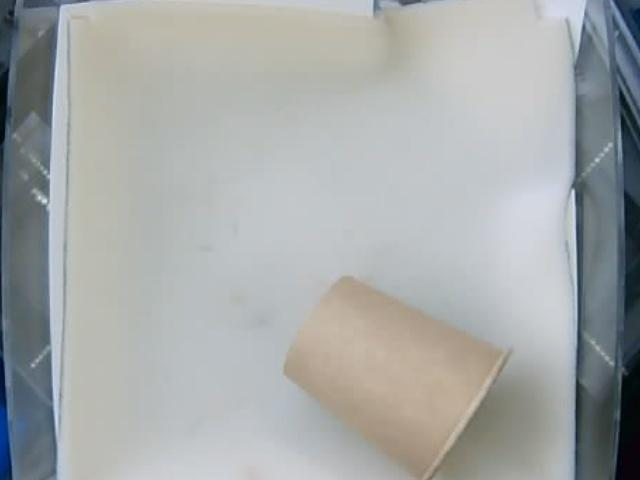Cup: (280, 276, 510, 479)
